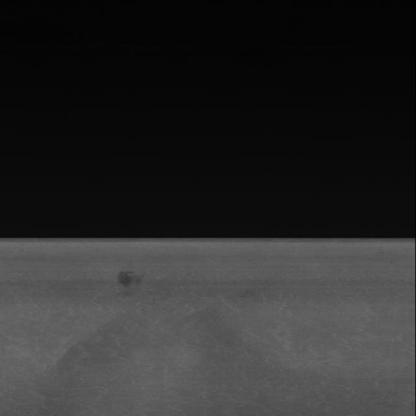oil_spot: (106, 268, 146, 290)
silk_spot: (80, 296, 395, 416)
